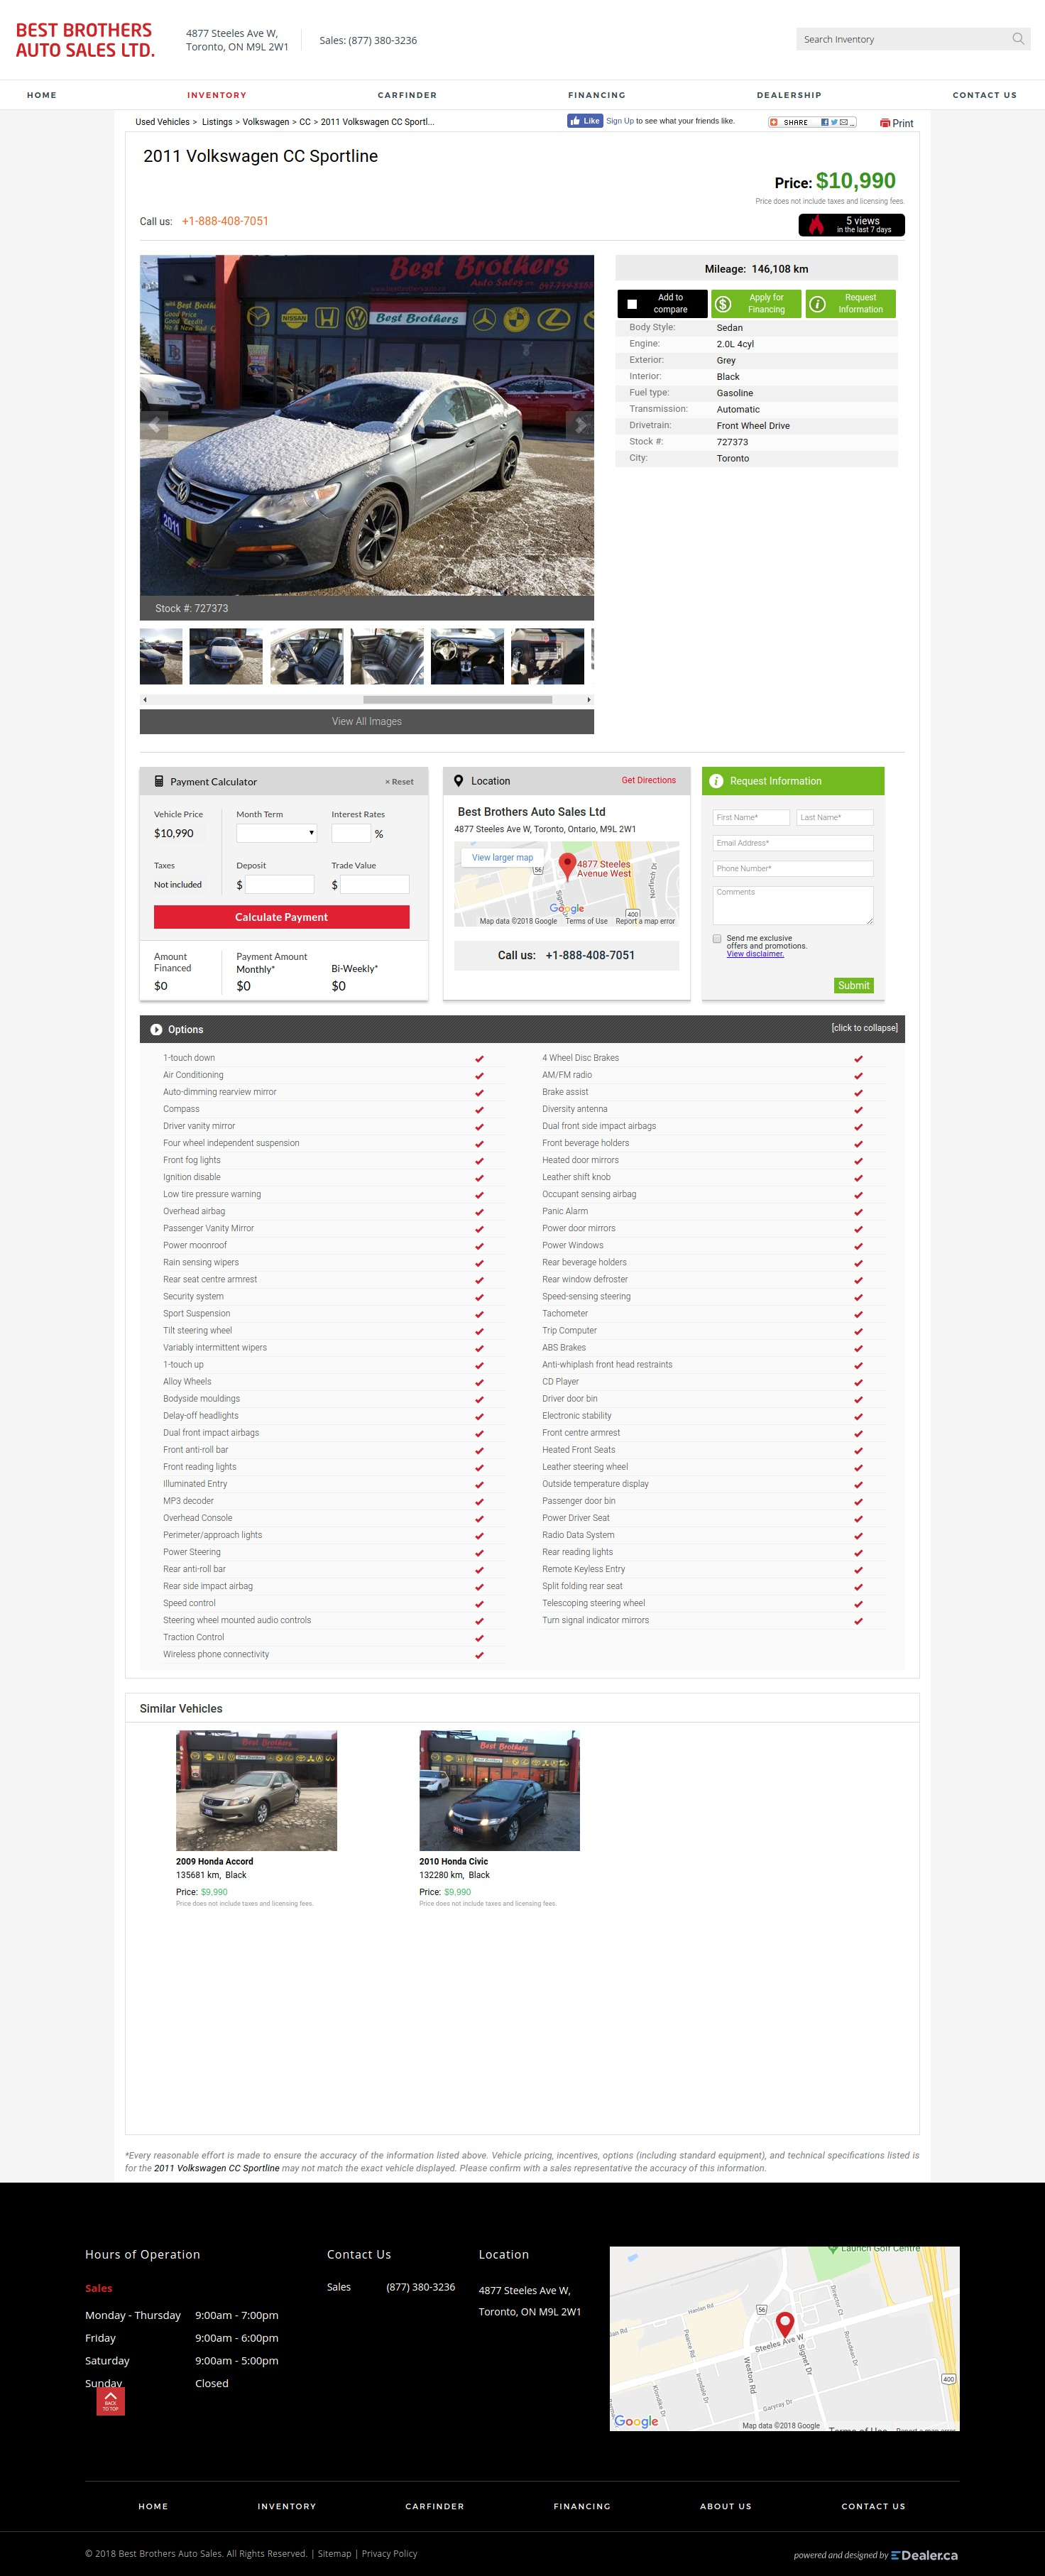car: (565, 411, 596, 442)
